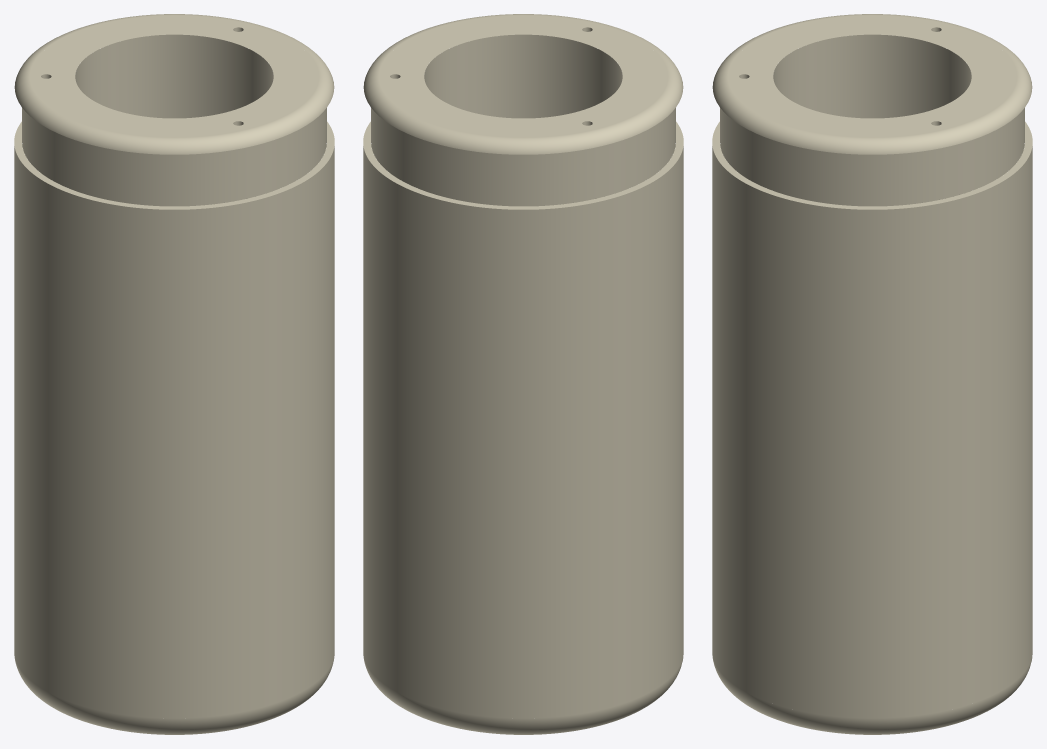
The model's file is esp2024_p02_float_foam.glb.
3 views of the same model, side by side, from view 1: azimuth 30°, elevation 25°; view 2: azimuth 150°, elevation 25°; view 3: azimuth 270°, elevation 25° (orthographic).
Parts seen in each view (by area): view 1: float foam fill; view 2: float foam fill; view 3: float foam fill.
Part boxes in pixels (x1,y1,x2,y2): float foam fill: (14,14,334,734); float foam fill: (363,14,683,734); float foam fill: (712,14,1032,734).
Bounding box in the file's own units: 488 × 1008 × 488.
